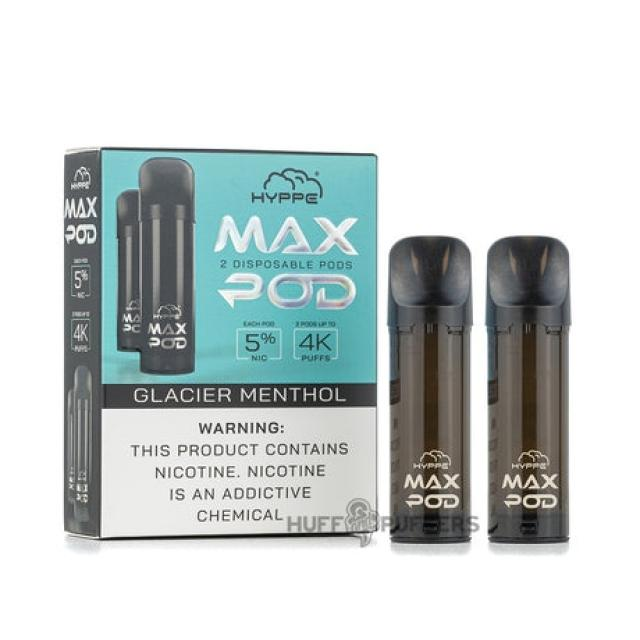Vapes: (62, 146, 378, 544)
